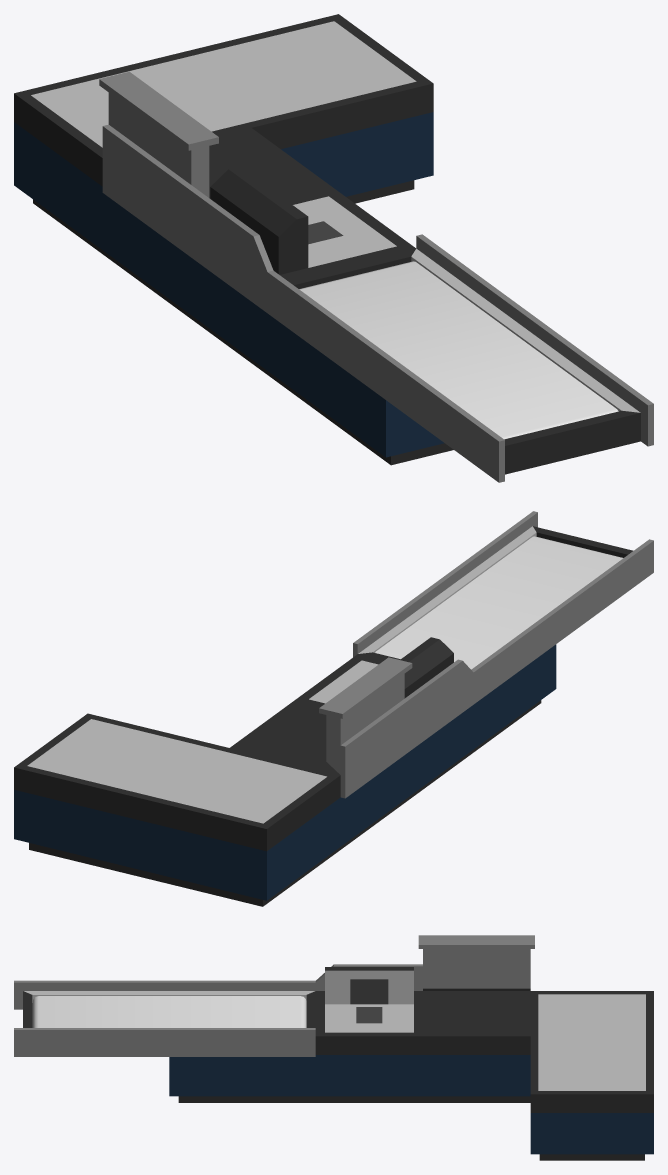
The model's file is checkoutlane.fbx.
3 views of the same model, one above another, from view 1: azimuth 30°, elevation 25°; view 2: azimuth 150°, elevation 25°; view 3: azimuth 270°, elevation 25° (orthographic). The views are drawn at different scales.
Parts seen in each view (by area): view 1: Counter, Belt; view 2: Counter, Belt; view 3: Counter, Belt.
Part boxes in pixels (<box>): Counter: <box>14,14,653,482</box>; Belt: <box>299,261,618,439</box>; Counter: <box>14,511,653,906</box>; Belt: <box>375,536,623,669</box>; Counter: <box>14,935,653,1160</box>; Belt: <box>32,996,306,1027</box>.
Size of the model in its own units: 273 by 150 by 701.
